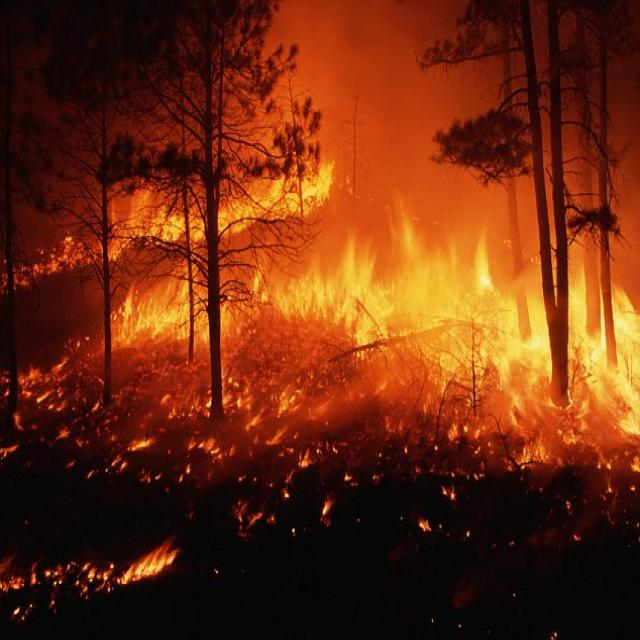Fire: (1, 159, 640, 441)
Smoke: (9, 0, 636, 285)
